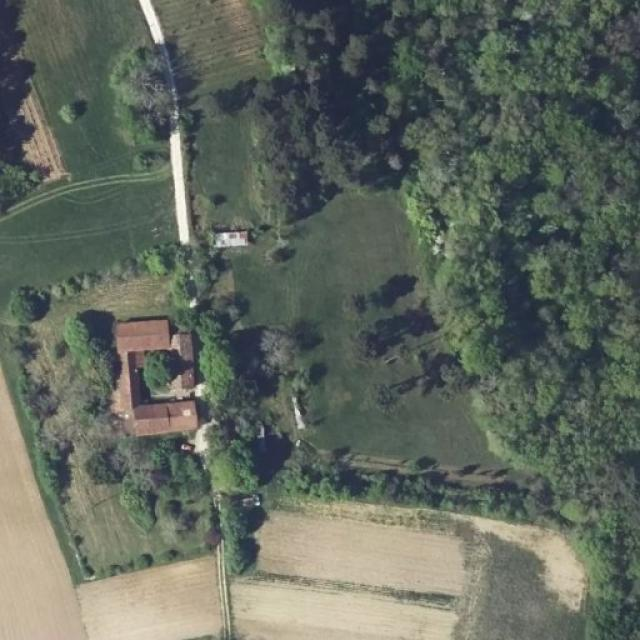ferme: (109, 314, 204, 439)
